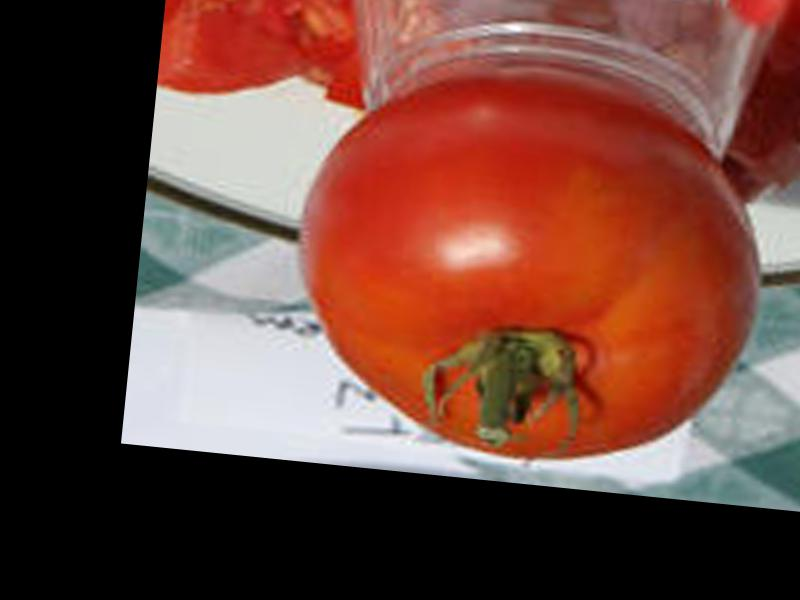Tomato: (276, 55, 779, 484)
